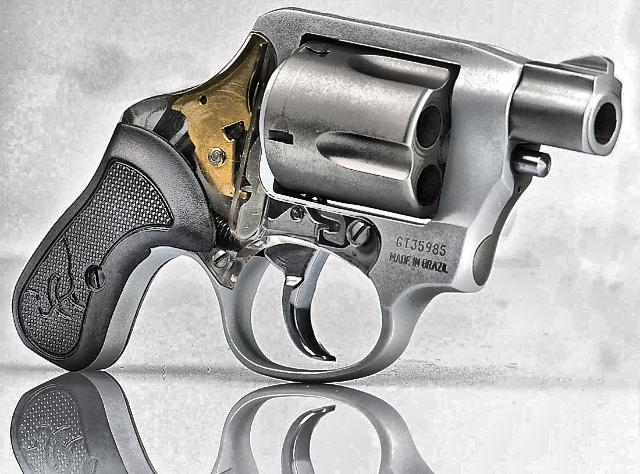pistol: (8, 8, 628, 383)
